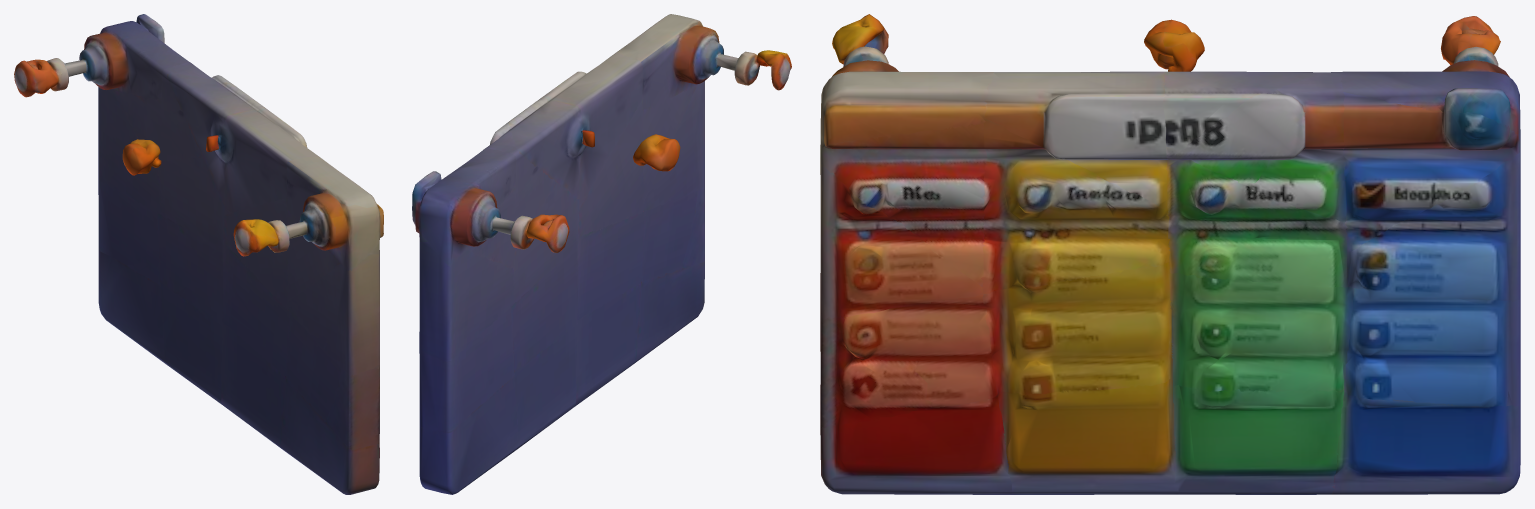
Rendered from project_stage_kanban.glb.
3 views of the same model, side by side, from view 1: azimuth 30°, elevation 25°; view 2: azimuth 150°, elevation 25°; view 3: azimuth 270°, elevation 25° (orthographic). The views are drawn at different scales.
Visible parts, largest first — view 1: tripo_node_6f101ec7-5825-4306-a1a5-f78f9309d0da; view 2: tripo_node_6f101ec7-5825-4306-a1a5-f78f9309d0da; view 3: tripo_node_6f101ec7-5825-4306-a1a5-f78f9309d0da.
Boxes of the visible parts, x1,y1,x2,y2 form: tripo_node_6f101ec7-5825-4306-a1a5-f78f9309d0da: [14, 14, 383, 494]; tripo_node_6f101ec7-5825-4306-a1a5-f78f9309d0da: [412, 14, 791, 494]; tripo_node_6f101ec7-5825-4306-a1a5-f78f9309d0da: [820, 14, 1520, 494].
Size of the model in its own units: 0.3121 by 0.6178 by 0.9508.
1 material, 1 textured.
